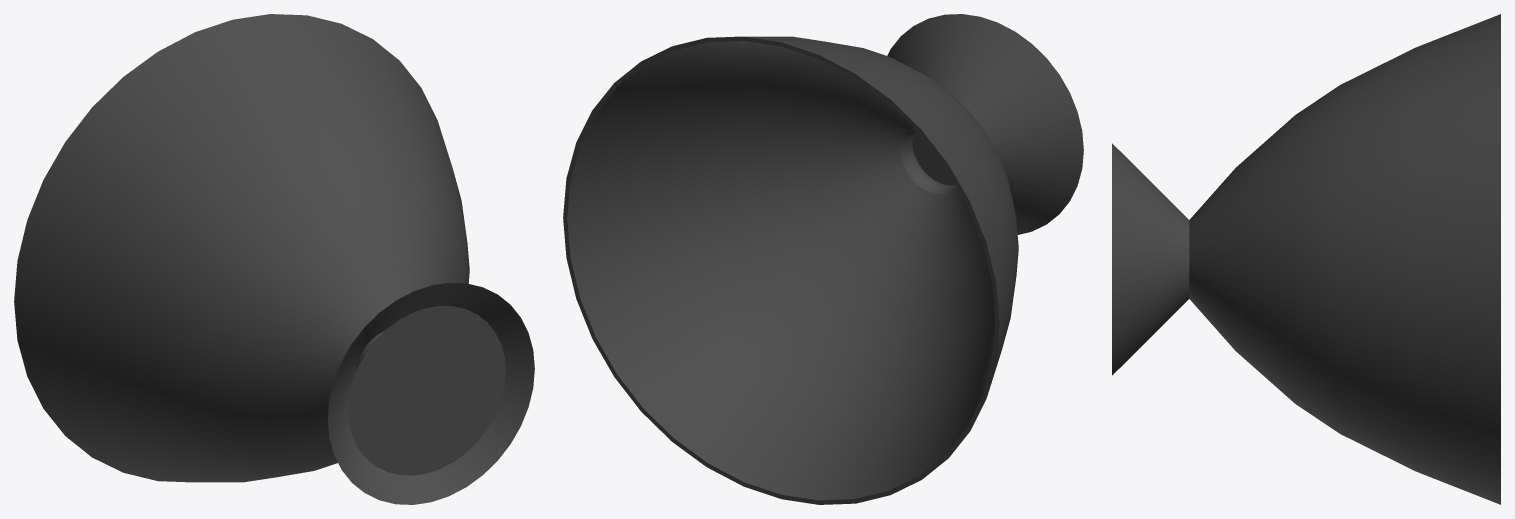
Rendered from ph_lander_ME.sturdy.gltf.
3 renders of one model, left to right at view 1: azimuth 30°, elevation 25°; view 2: azimuth 150°, elevation 25°; view 3: azimuth 270°, elevation 25°, orthographic. The views are drawn at different scales.
Parts seen in each view (by area): view 1: landerMEmesh; view 2: landerMEmesh; view 3: landerMEmesh.
Part boxes in pixels (bbox=[...]): landerMEmesh: bbox=[14, 14, 534, 504]; landerMEmesh: bbox=[563, 14, 1083, 504]; landerMEmesh: bbox=[1112, 14, 1500, 504].
Bounding box in the file's own units: 1.39 × 1.39 × 1.1.
Materials: 1 (1 with a texture image).
